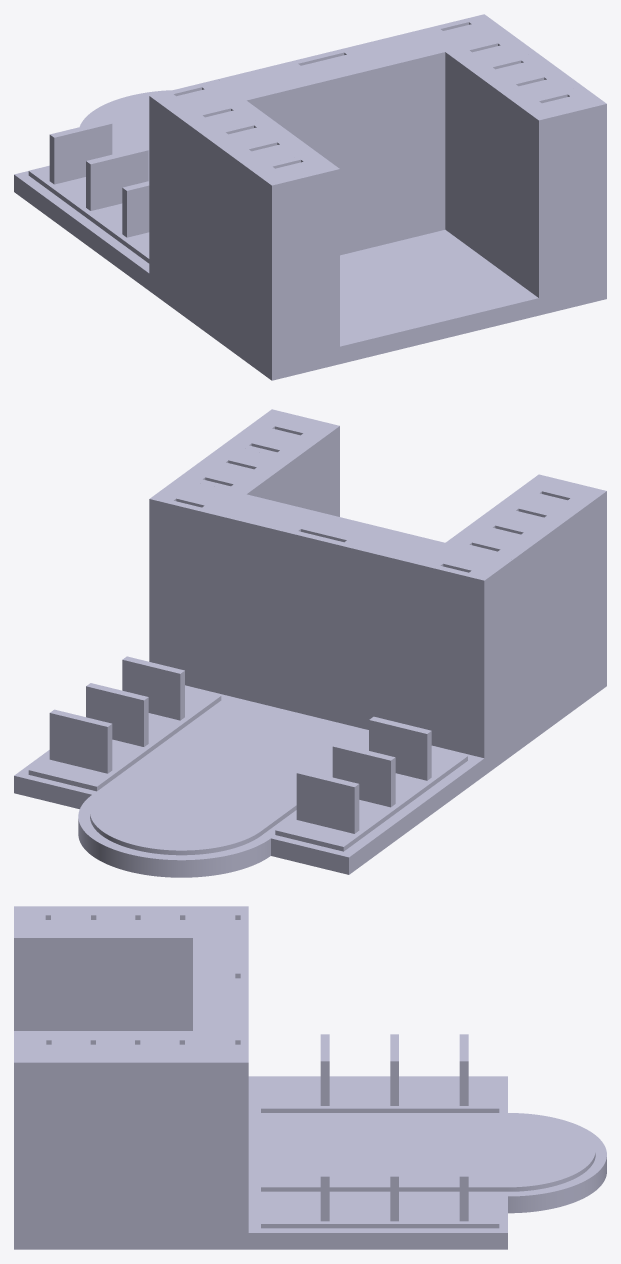
The model's file is DressingTable2.gltf.
3 views of the same model, one above another, from view 1: azimuth 30°, elevation 25°; view 2: azimuth 150°, elevation 25°; view 3: azimuth 270°, elevation 25° (orthographic). The views are drawn at different scales.
Visible parts, largest first — view 1: Body001; view 2: Body001; view 3: Body001.
Boxes of the visible parts, left/top/right/bottom form: Body001: left=14, top=14, right=606, bottom=380; Body001: left=14, top=409, right=606, bottom=877; Body001: left=14, top=906, right=606, bottom=1249.
Bounding box in the file's own units: 1.5 × 0.835 × 2.4.
